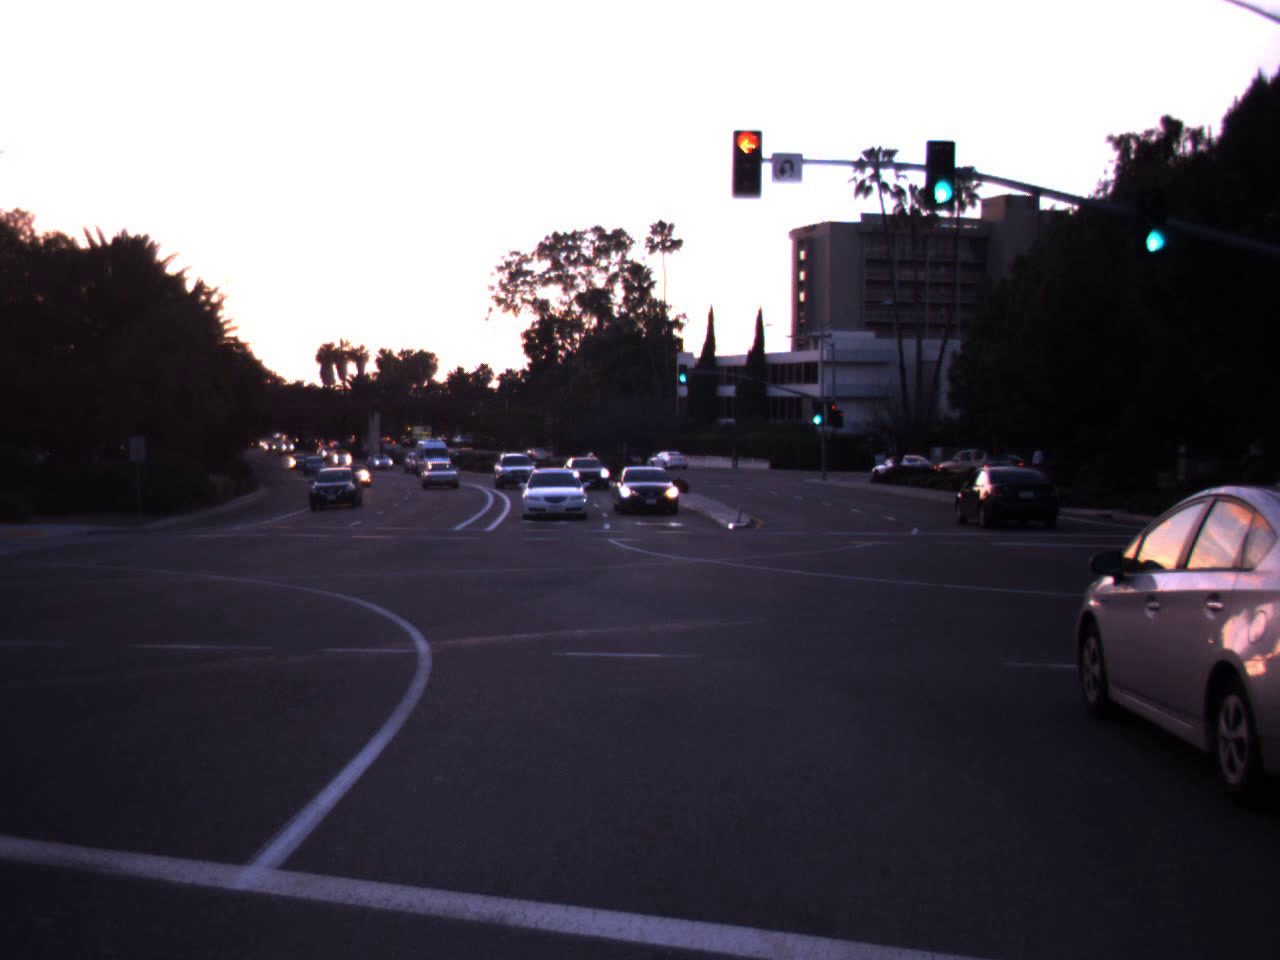go: (1121, 128, 1193, 268), (914, 103, 968, 213)
stop: (717, 127, 777, 212)
